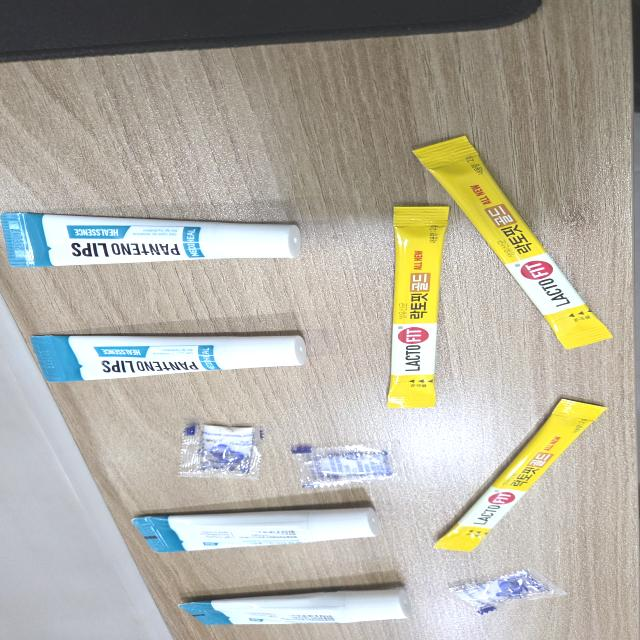lacto: (408, 131, 621, 350), (432, 392, 607, 553), (378, 193, 458, 411)
lib: (0, 210, 303, 272), (24, 329, 312, 385), (129, 506, 387, 554), (172, 586, 416, 627)
salt: (171, 420, 268, 487), (286, 437, 408, 490), (446, 567, 574, 615)
